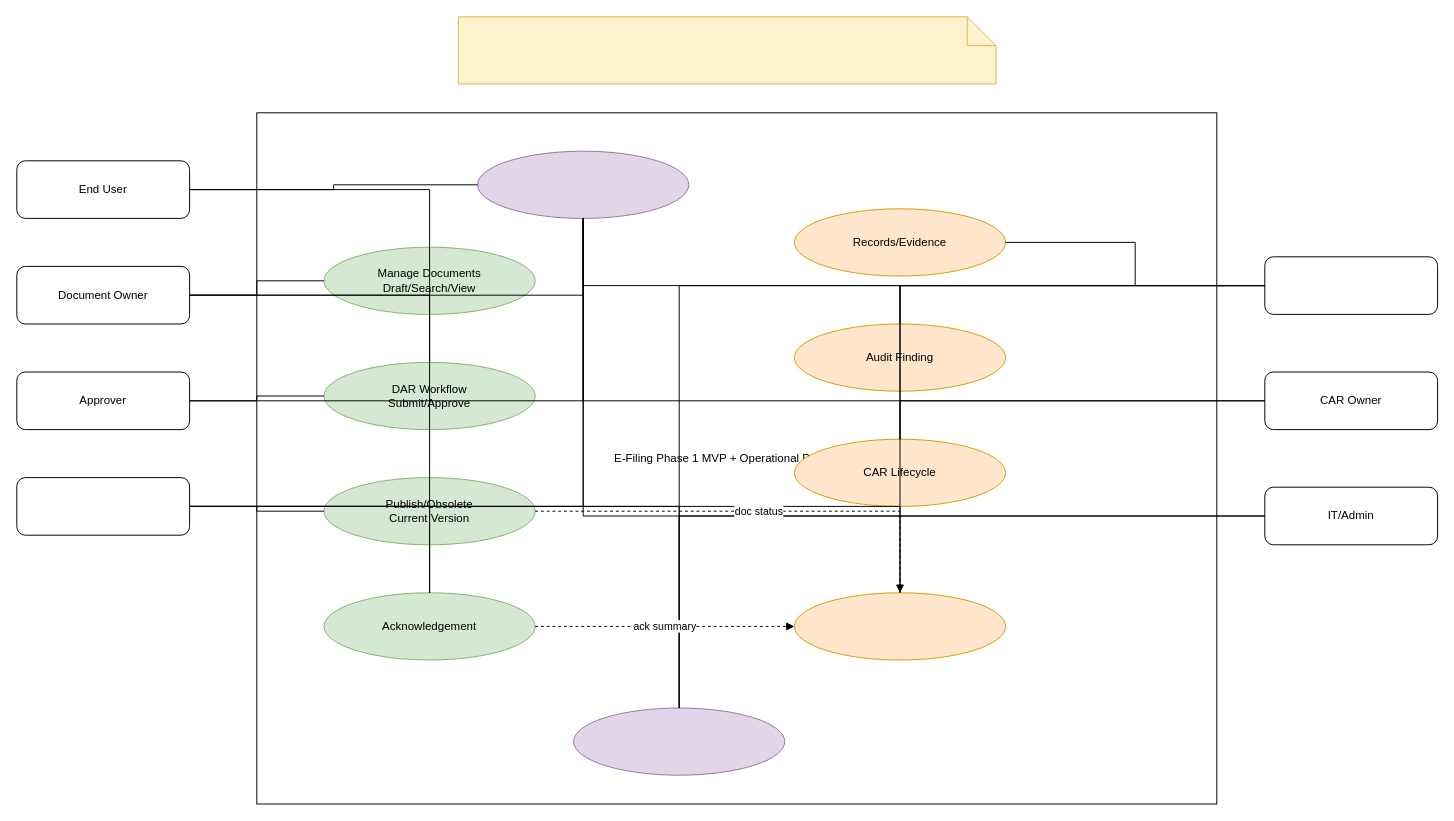
Some shapes in this 1454 by 821 pixel diagram are drawn without their labels. The shapes that lost their labels are listed below. From the top down, each one's centre as x and y in pixels, then its label:
At point (726, 50): "Overall Phase 1 Use Case Diagram E-Filing RMUTL ISO9001".
At point (583, 184): "Login/RBAC".
At point (1351, 285): "Auditor".
At point (103, 506): "ISO/QA Admin".
At point (899, 626): "Operational Dashboard".
At point (679, 741): "Audit Trail".
